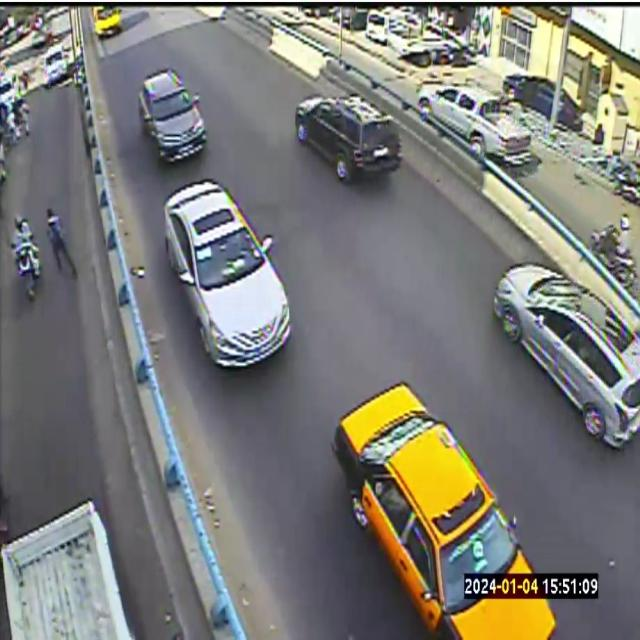car: (332, 383, 555, 639), (493, 263, 639, 448), (163, 181, 290, 367), (295, 94, 402, 182), (418, 84, 531, 165), (138, 70, 207, 161), (93, 6, 122, 38)
